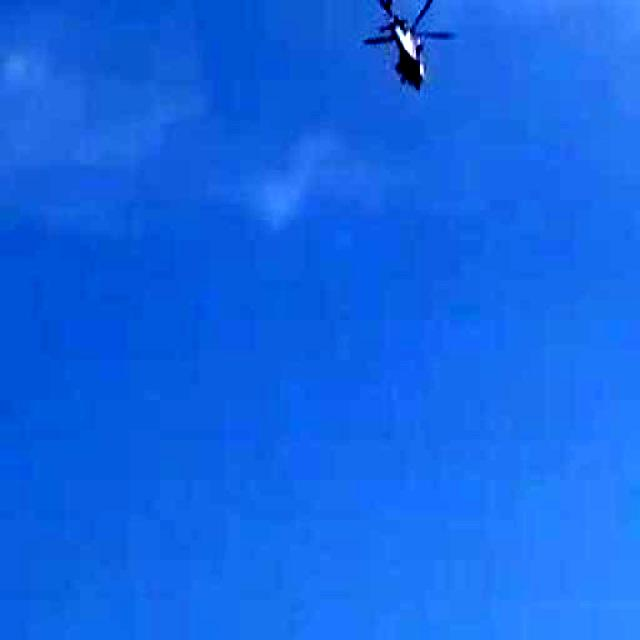drone: (330, 0, 486, 122)
